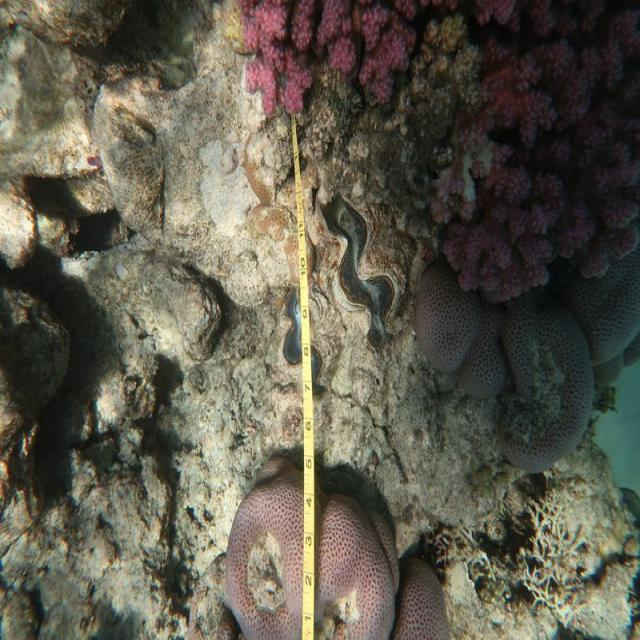Healthy Coral: (442, 0, 639, 299), (240, 3, 415, 117)
